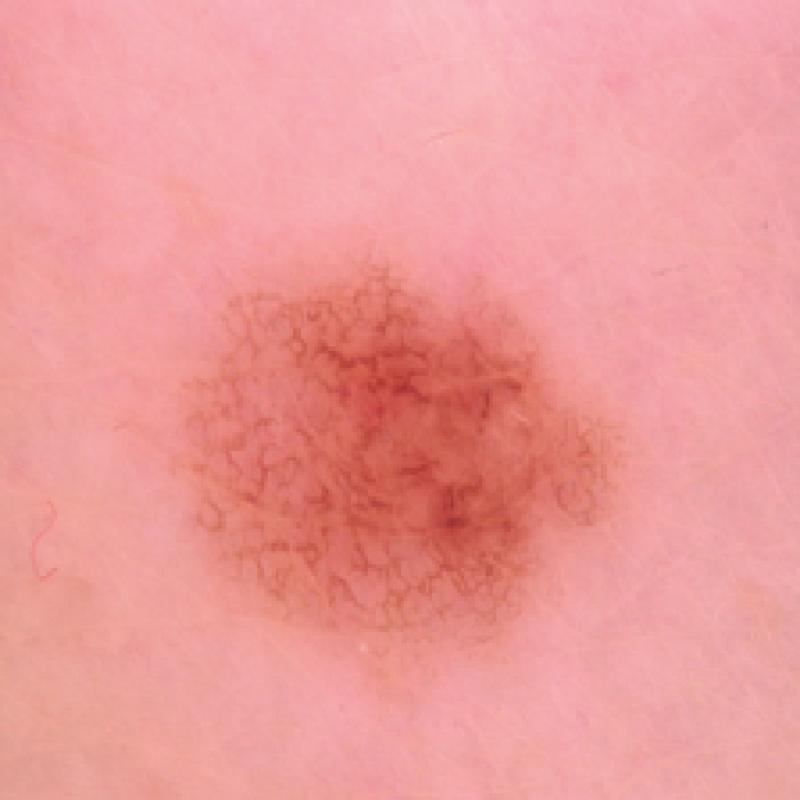benign: (161, 238, 634, 688)
